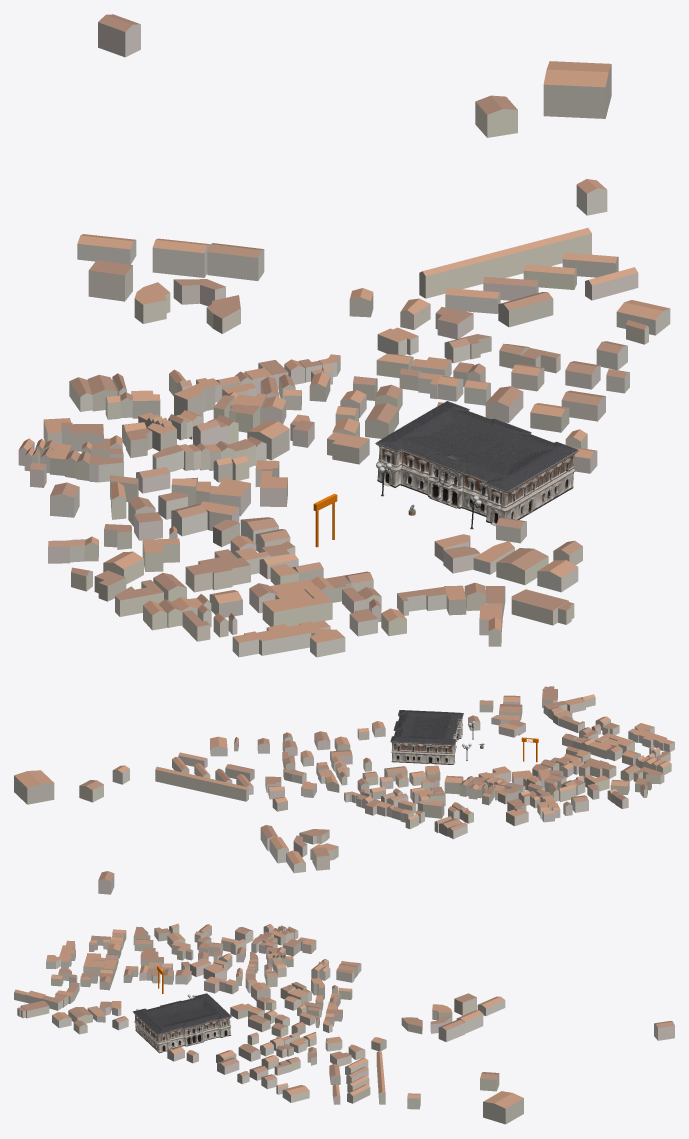
File: maglianoC.glb
3 renders of one model, top to bottom at view 1: azimuth 30°, elevation 25°; view 2: azimuth 150°, elevation 25°; view 3: azimuth 270°, elevation 25°, orthographic. The views are drawn at different scales.
Parts seen in each view (by area): view 1: Municipio, Casa_058, Casa_061, Casa_001, Casa_068, Casa_066, Casa_110, Casa_109, Casa_111, Casa_060, Casa_113, Casa_112 (+30 smaller); view 2: Municipio, Casa_058, Casa_061, Casa_001, Casa_068, Casa_060, Casa_154, Casa_110, Casa_196, Casa_111, Casa_202, Casa_066 (+5 smaller); view 3: Municipio, Casa_061, Casa_001, Casa_109, Casa_111, Casa_058, Casa_110, Casa_037, Casa_112, Casa_113, Casa_060, Casa_066 (+3 smaller).
Part boxes in pixels (x1,y1,x2,y2): Municipio: (375,401,578,529); Casa_058: (419,228,591,298); Casa_061: (543,61,611,118); Casa_001: (232,620,345,657); Casa_068: (185,549,250,592); Casa_066: (262,586,332,626); Casa_110: (152,238,209,277); Casa_109: (207,243,264,280); Casa_111: (88,260,132,301); Casa_060: (475,95,517,137); Casa_113: (98,14,140,57); Casa_112: (77,234,136,264); Municipio: (390,710,474,764); Casa_058: (155,766,248,801); Casa_061: (14,770,54,804); Casa_001: (628,723,674,752); Casa_068: (579,758,616,778); Casa_060: (79,780,103,802); Casa_154: (417,800,444,818); Casa_110: (269,836,288,863); Casa_196: (299,829,329,844); Casa_111: (312,847,329,870); Casa_202: (633,767,664,784); Casa_066: (595,733,634,753); Municipio: (132,993,231,1053); Casa_061: (483,1091,523,1124); Casa_001: (46,940,75,969); Casa_109: (438,1019,465,1041); Casa_111: (454,993,476,1015); Casa_058: (376,1050,385,1104); Casa_110: (456,1010,483,1033); Casa_037: (282,1085,309,1102); Casa_112: (477,996,505,1015); Casa_113: (654,1021,674,1040); Casa_060: (480,1072,499,1091); Casa_066: (83,953,105,976).
Bounding box in the file's own units: 554 × 52.67 × 730.
12 materials, 1 textured.
